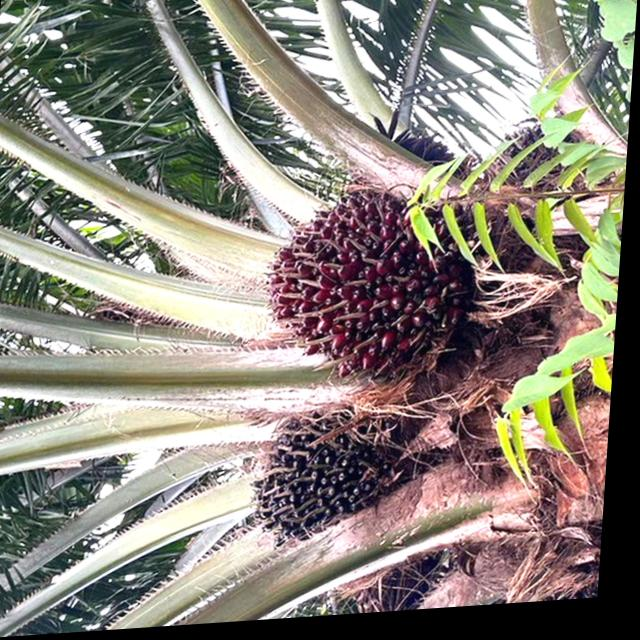ripe: (252, 181, 468, 402), (250, 408, 409, 560)
